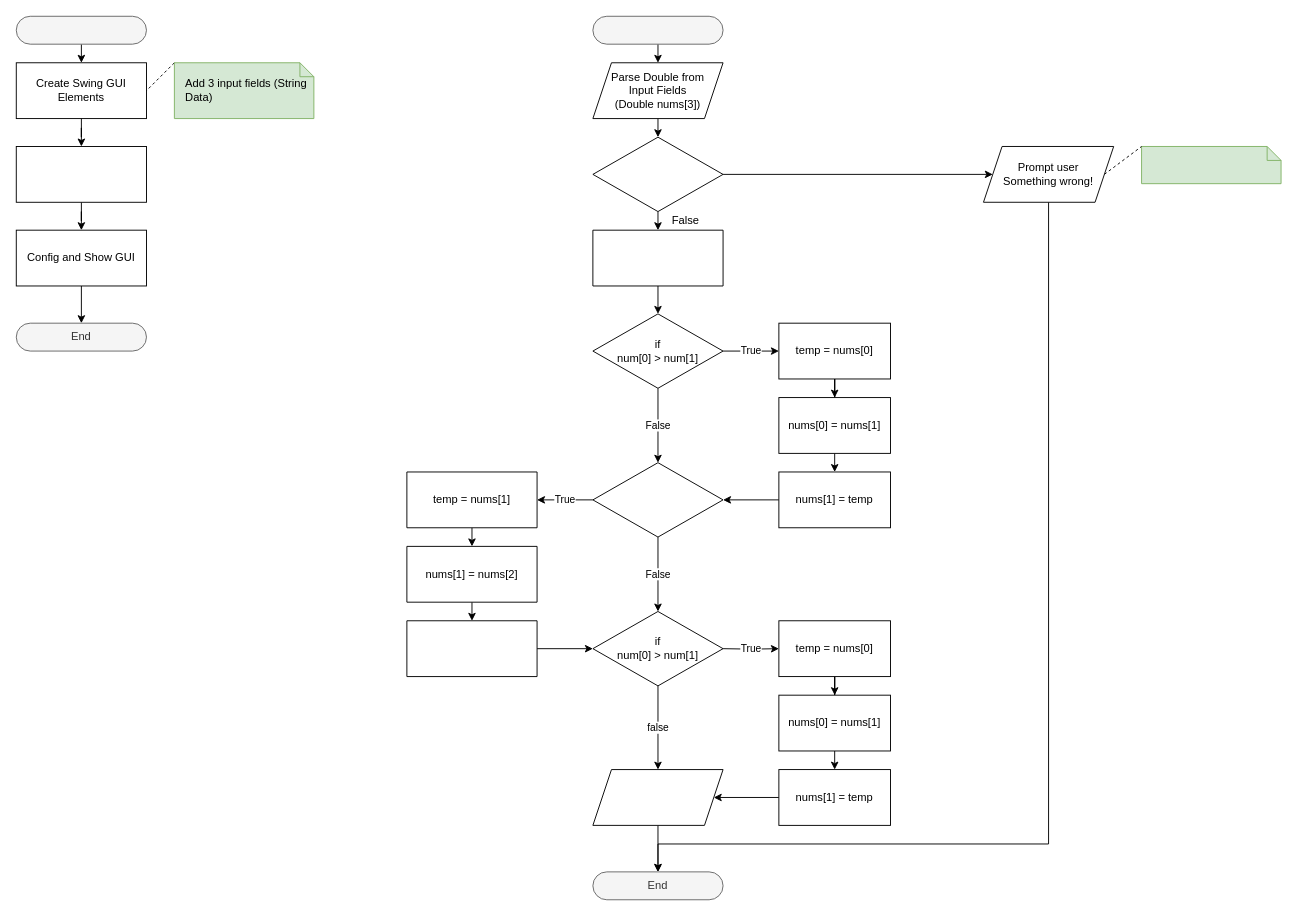
This 1297x916 diagram has some shape labels left out. The shapes that lost their labels are listed below. From the top down, each one's centre as x and y in pixels, then its label:
pixel 80 29: Start
pixel 657 29: ON_CLICK
pixel 80 174: Add (Override) ON_CLICK Event
pixel 657 174: If Exception Raised
pixel 1211 165: Catch Block
pixel 657 257: Double temp;
pixel 657 499: if num[1] > num[2]
pixel 471 648: nums[2] = temp
pixel 657 797: Output num[0] num[1] num[2] in order
